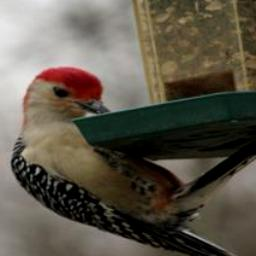Woodpecker: (12, 65, 251, 256)
